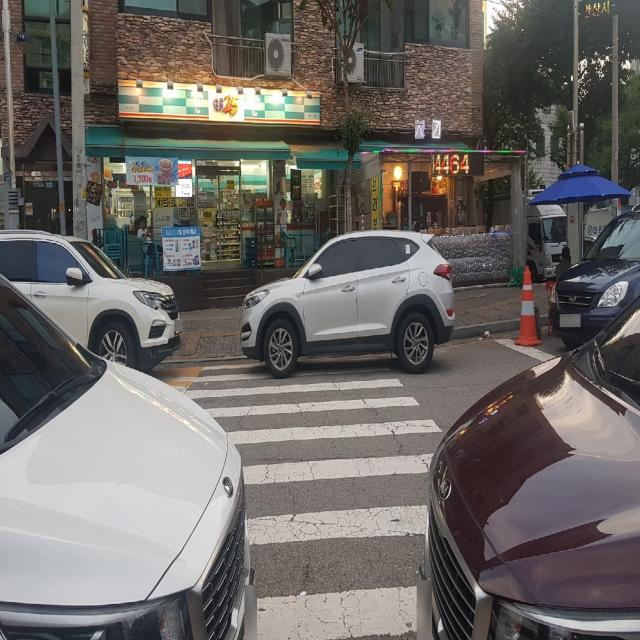횡단보도: (186, 364, 442, 640)
